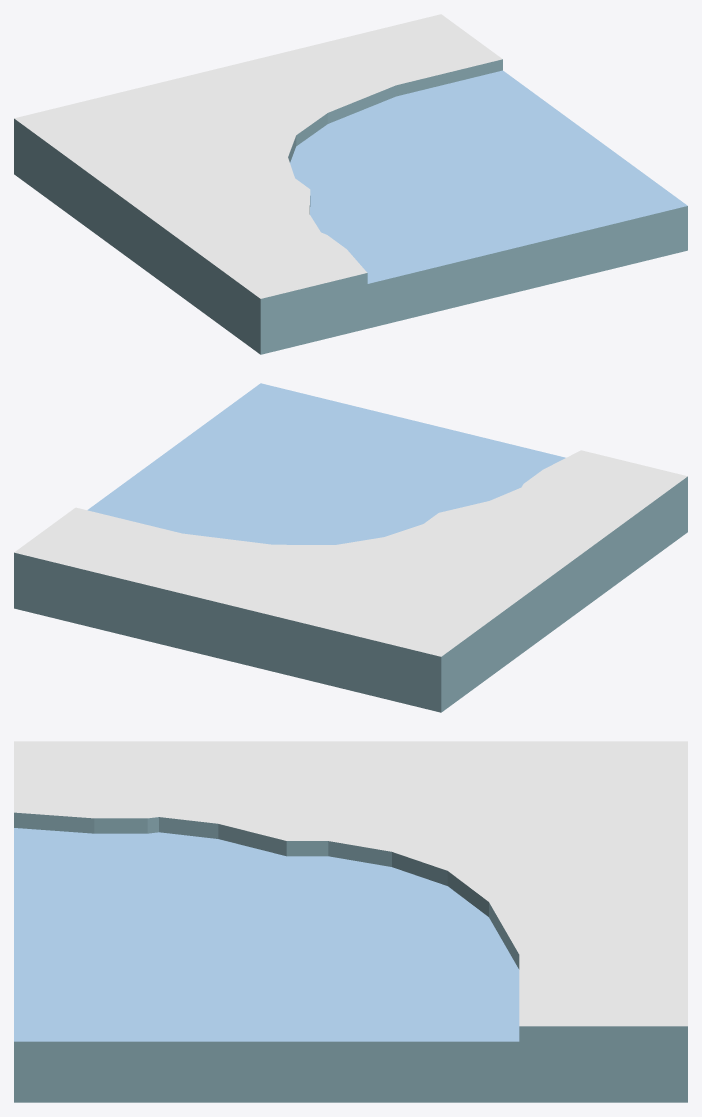
The model's file is Terrain_Tile_Ice_Snow_Water_Bank_Corner_03.fbx.
3 views of the same model, one above another, from view 1: azimuth 30°, elevation 25°; view 2: azimuth 150°, elevation 25°; view 3: azimuth 270°, elevation 25° (orthographic). The views are drawn at different scales.
Visible parts, largest first — view 1: Terrain_Tile_Ice_Snow_Water_Bank_Corner_03; view 2: Terrain_Tile_Ice_Snow_Water_Bank_Corner_03; view 3: Terrain_Tile_Ice_Snow_Water_Bank_Corner_03.
Boxes of the visible parts, bbox=[...] form: Terrain_Tile_Ice_Snow_Water_Bank_Corner_03: bbox=[14, 14, 687, 354]; Terrain_Tile_Ice_Snow_Water_Bank_Corner_03: bbox=[14, 383, 687, 712]; Terrain_Tile_Ice_Snow_Water_Bank_Corner_03: bbox=[14, 741, 687, 1102].
Bounding box in the file's own units: 126 × 15.75 × 126.
